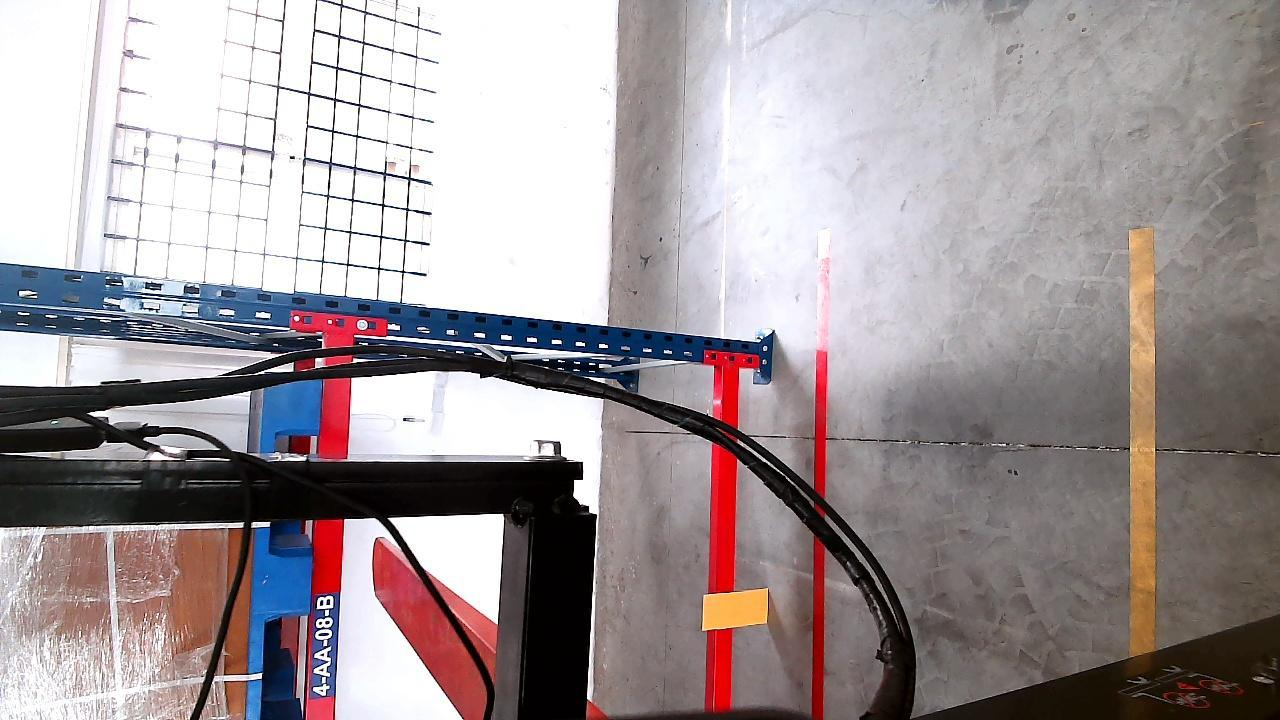red_line: (811, 259, 832, 720)
yellow_line: (1129, 222, 1159, 662)
